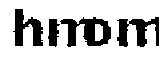D: (91, 13, 114, 51)
h: (8, 5, 44, 53)
m: (48, 15, 92, 50), (117, 16, 160, 48)
